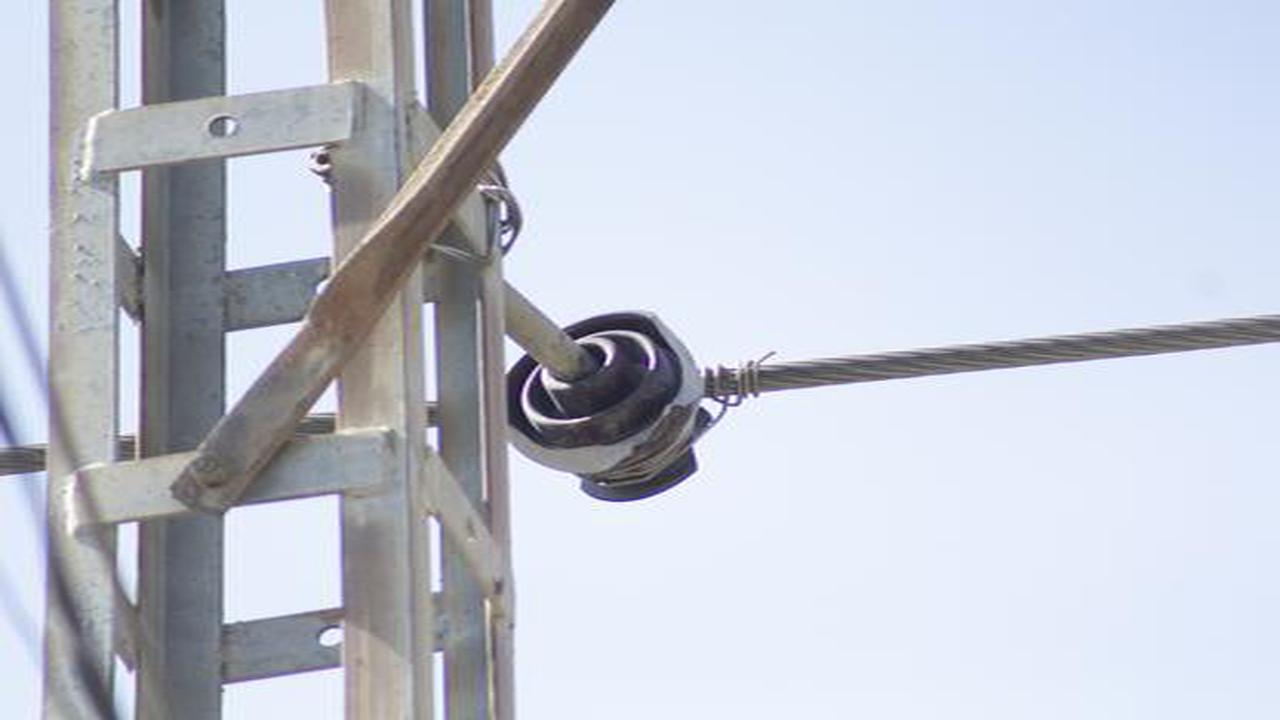defect_pin: (506, 312, 730, 510)
